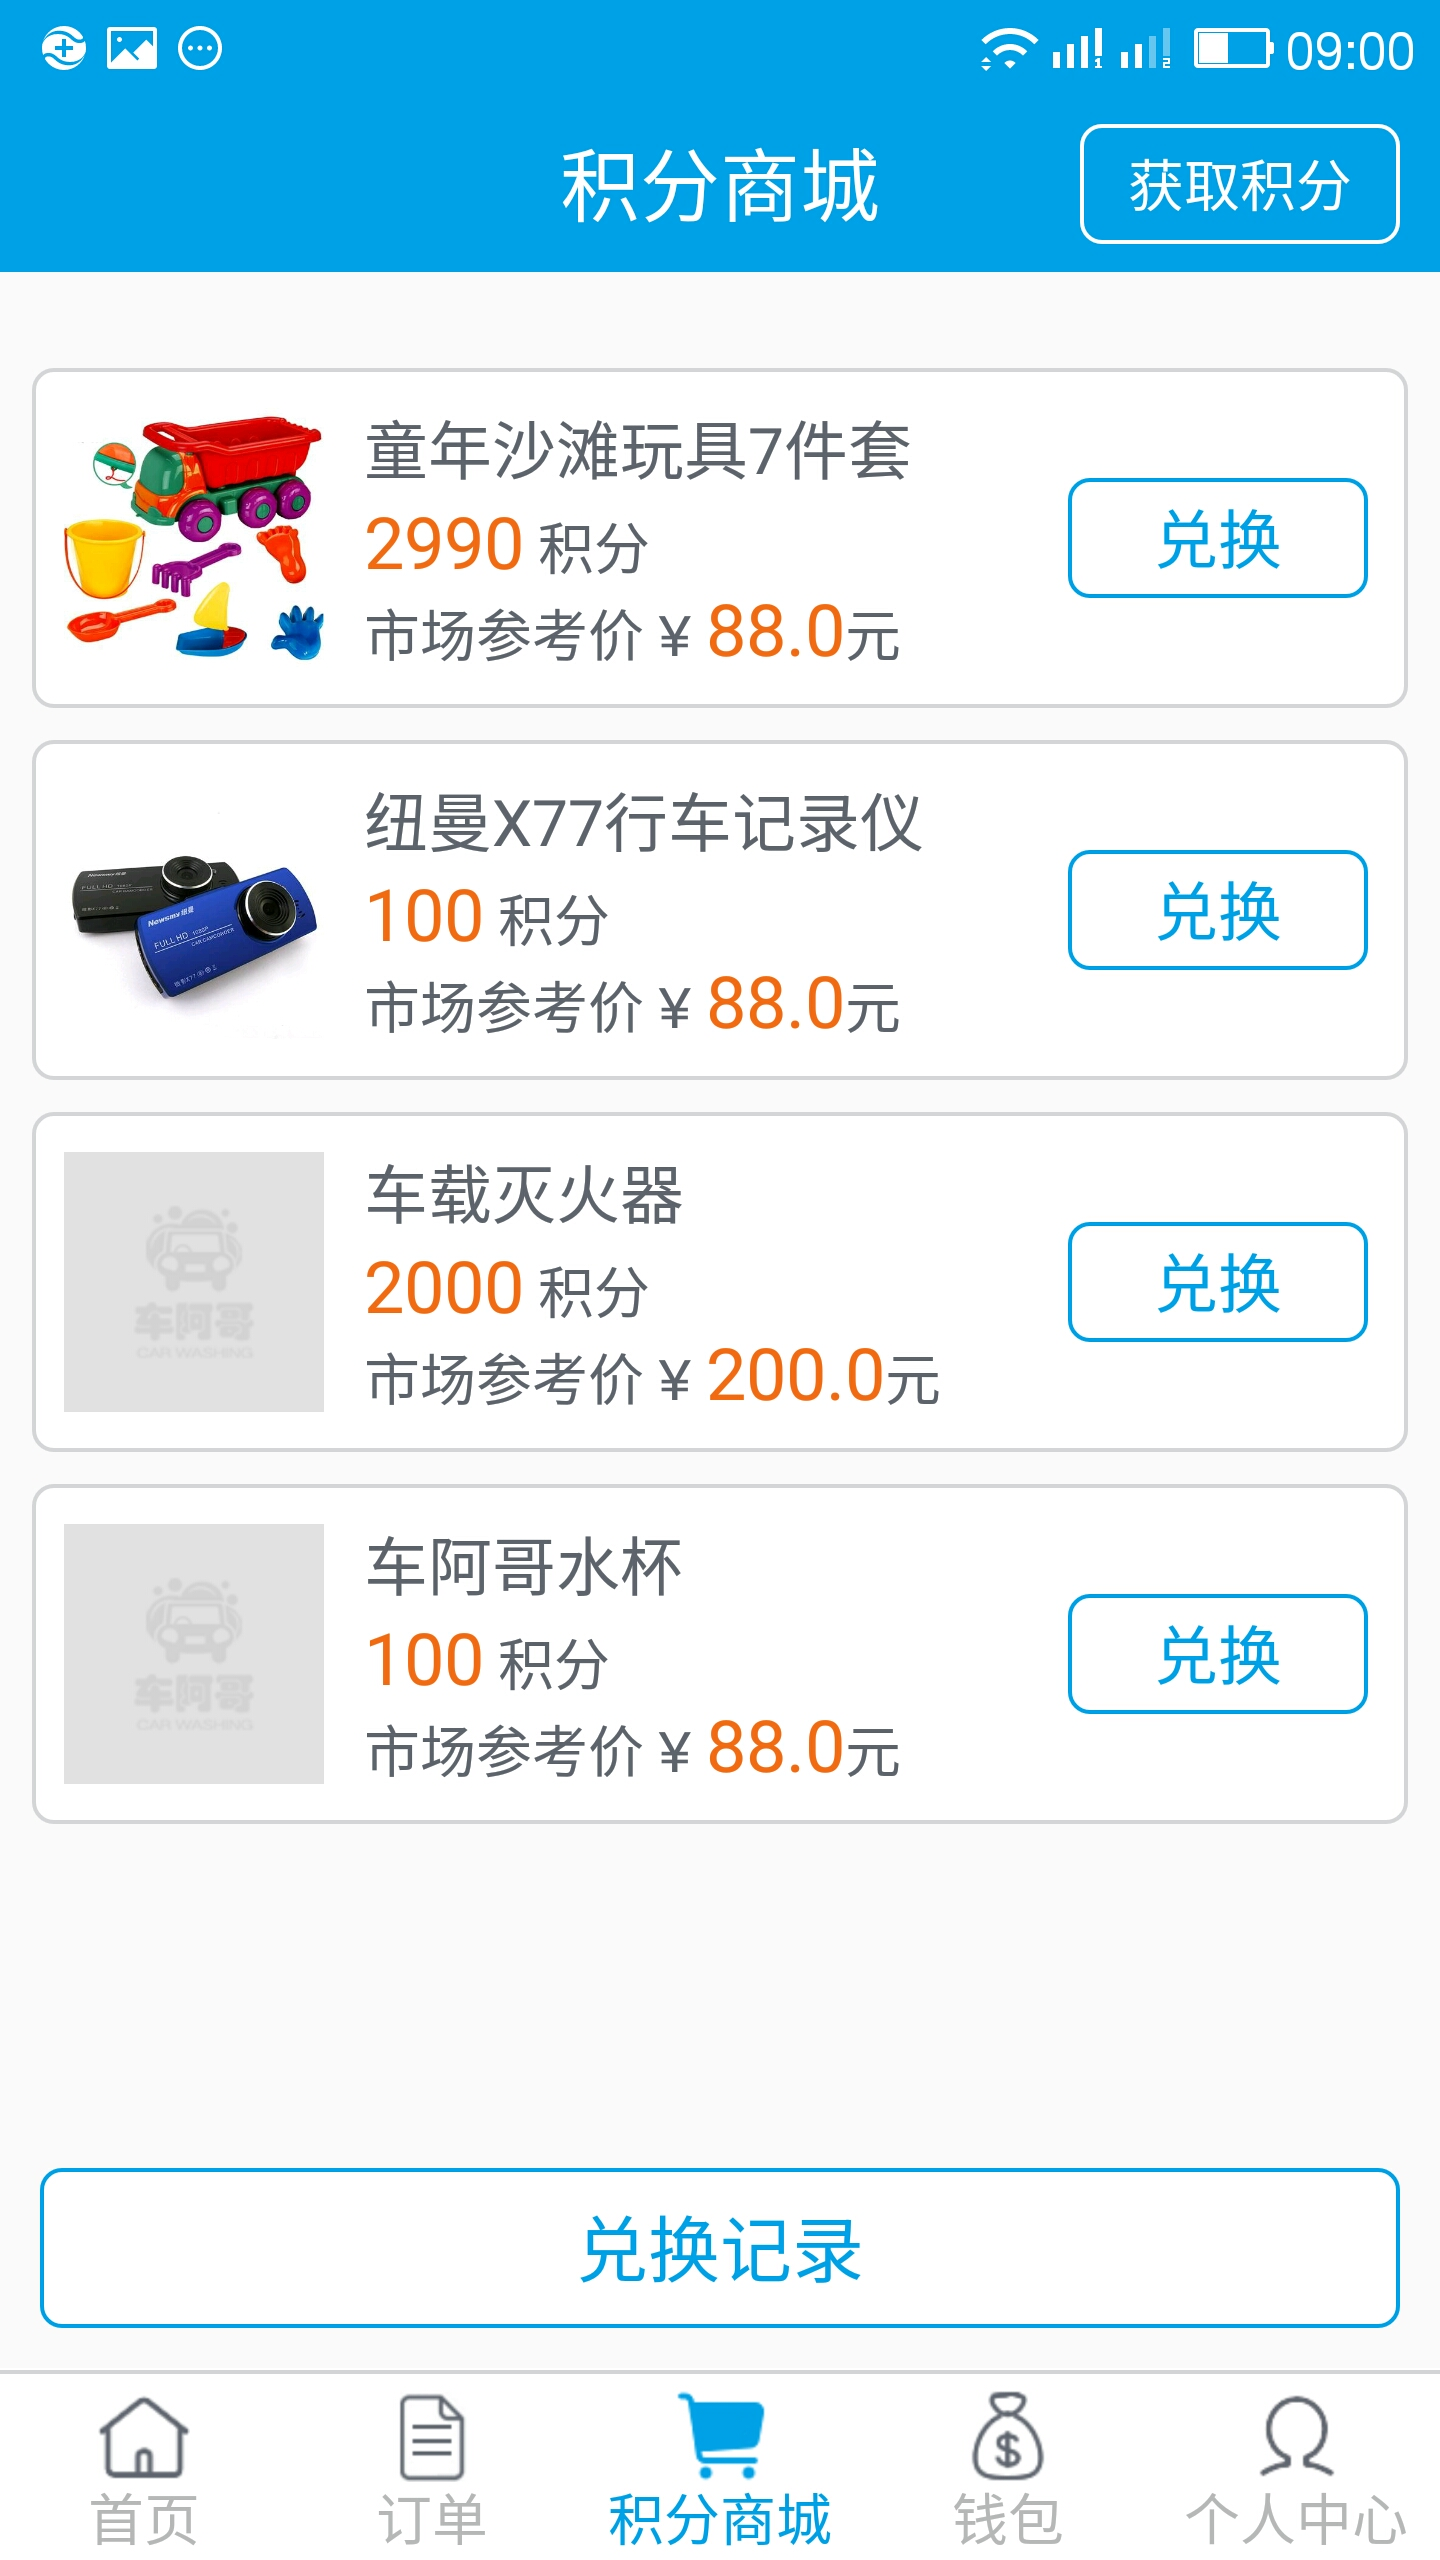button: (1034, 466, 1387, 624), (1058, 113, 1417, 257)
imgview: (49, 406, 318, 693)
textview: (7, 352, 1429, 733), (332, 406, 923, 675)
